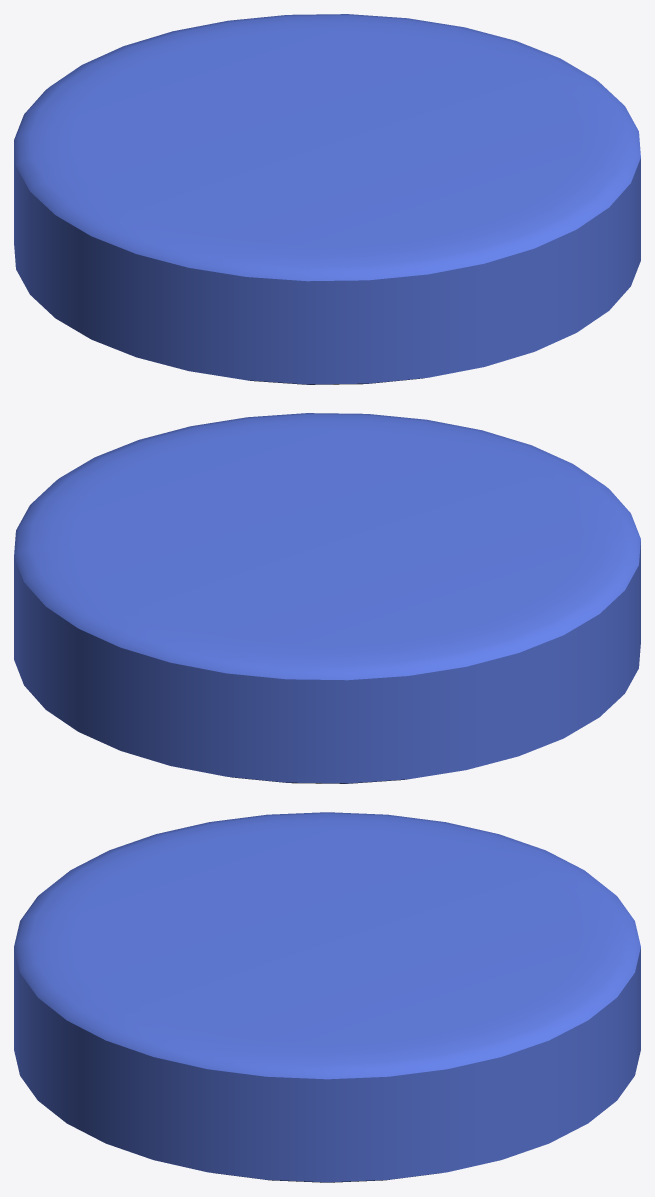
Rendered from air_bearing.dae.
3 views of the same model, one above another, from view 1: azimuth 30°, elevation 25°; view 2: azimuth 150°, elevation 25°; view 3: azimuth 270°, elevation 25° (orthographic).
Parts seen in each view (by area): view 1: Cylinder; view 2: Cylinder; view 3: Cylinder.
Part boxes in pixels (bbox=[...]): Cylinder: bbox=[14, 14, 640, 384]; Cylinder: bbox=[14, 413, 640, 783]; Cylinder: bbox=[14, 812, 640, 1182].
Bounding box in the file's own units: 0.05 × 0.05 × 0.0106.
